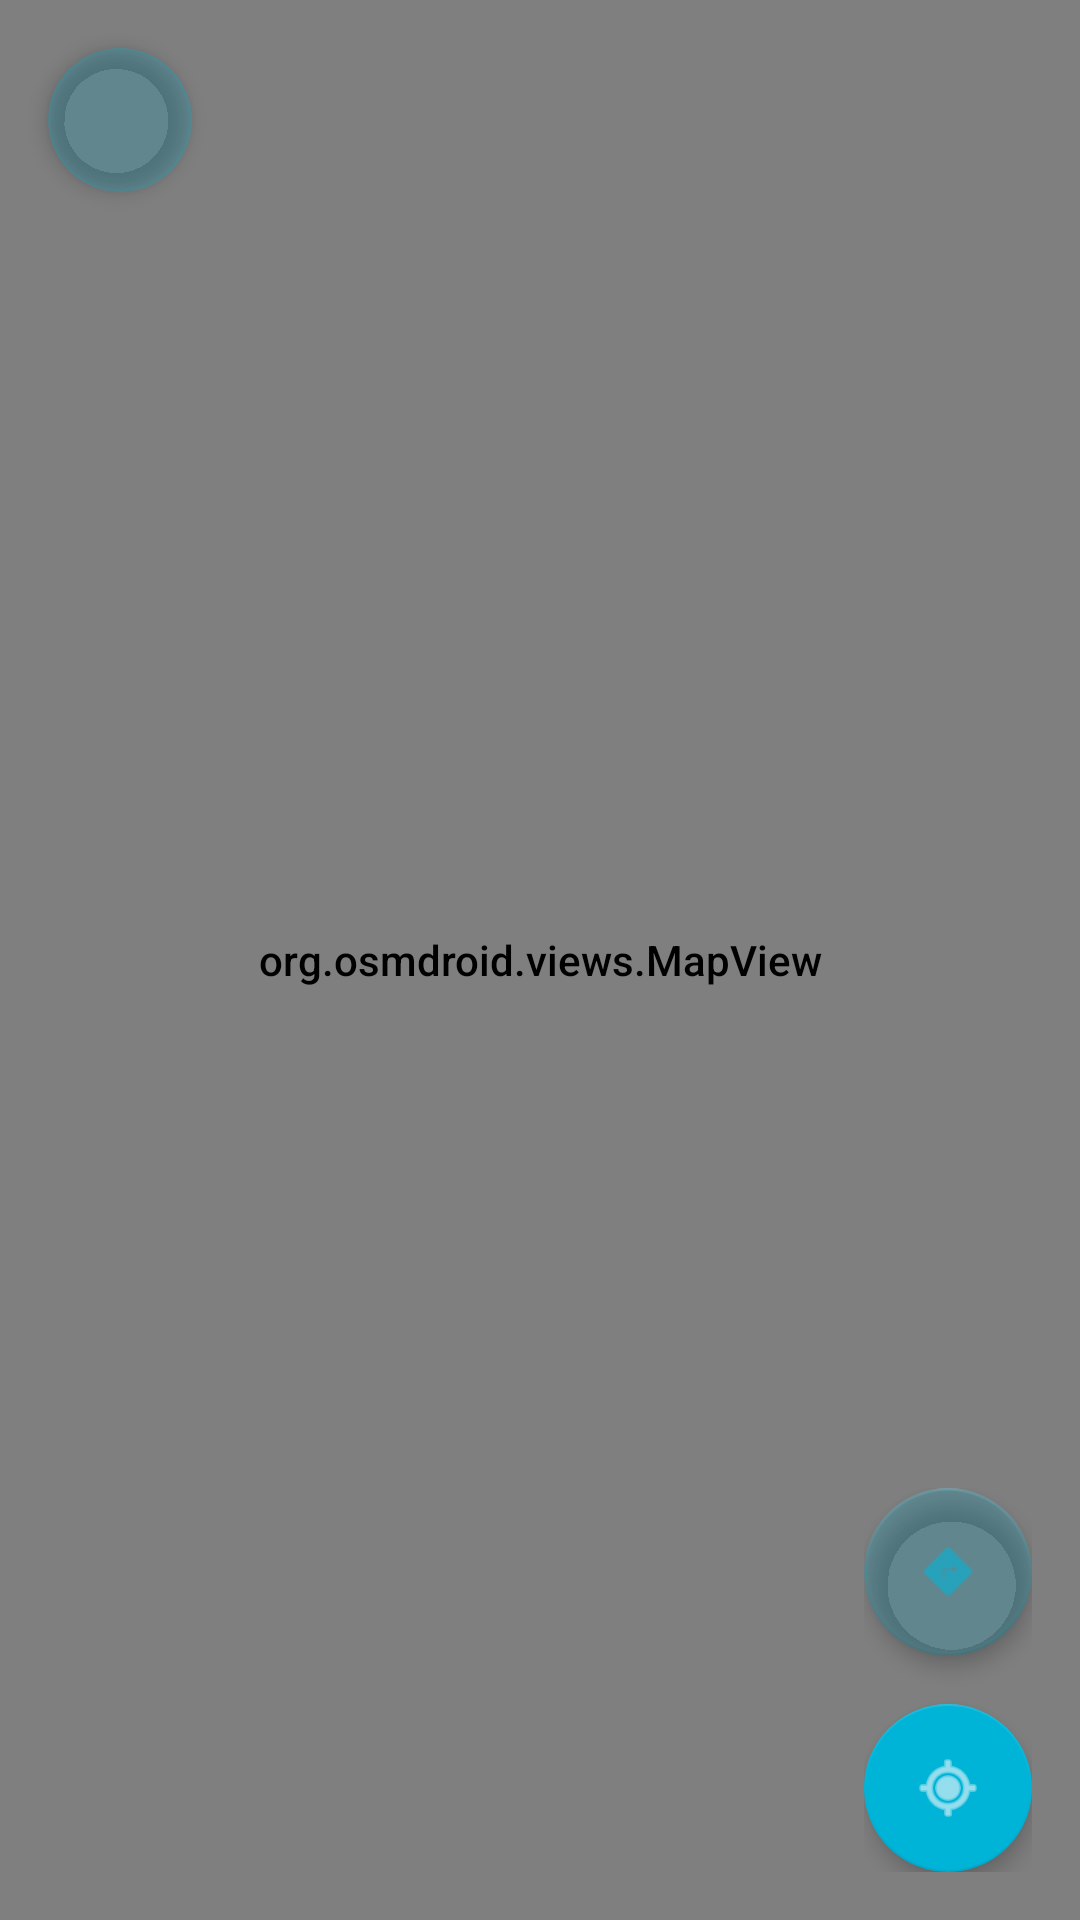

Screen size 1080*1920. Icon name, then its box in pixels as (x1, y1, x2, y2):
directions: (864, 1488, 1032, 1656)
mylocation: (864, 1704, 1032, 1872)
